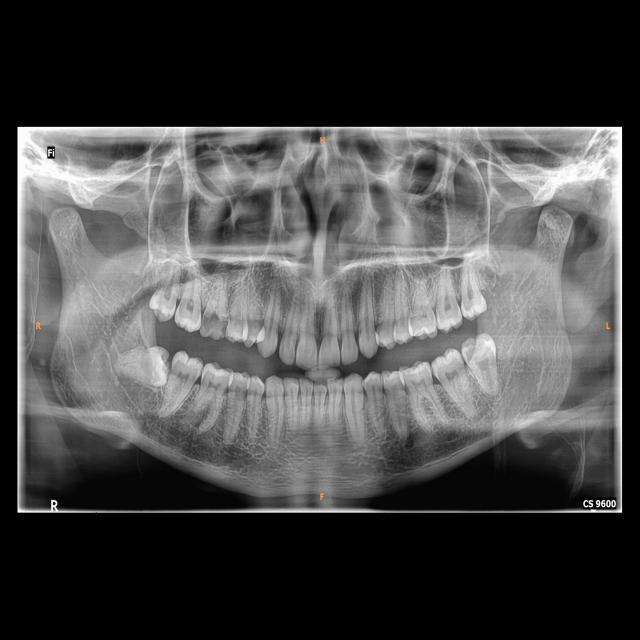dentin-curugu: (198, 309, 228, 334)
kok-enfeksiyonu: (395, 425, 422, 456)
